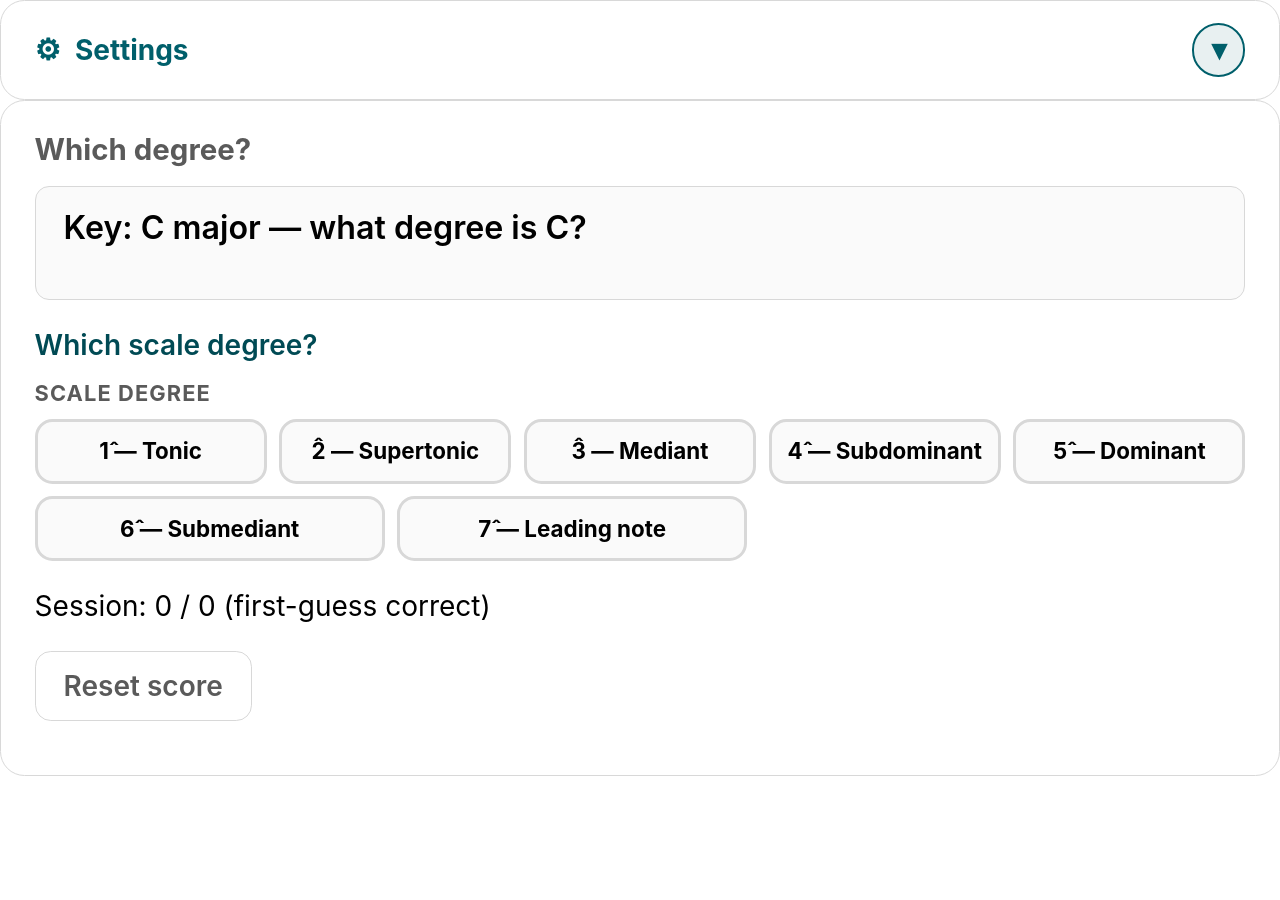
Test: ScaleDegreesTopic — first-guess scoring (docs/15-theory-topics/03 §5) › counts a first-try correct answer as total+1, correct+1
This screenshot has width=1280, height=900.
Click the button "1̂ — Tonic" at (151, 451), box [35,419,267,484]
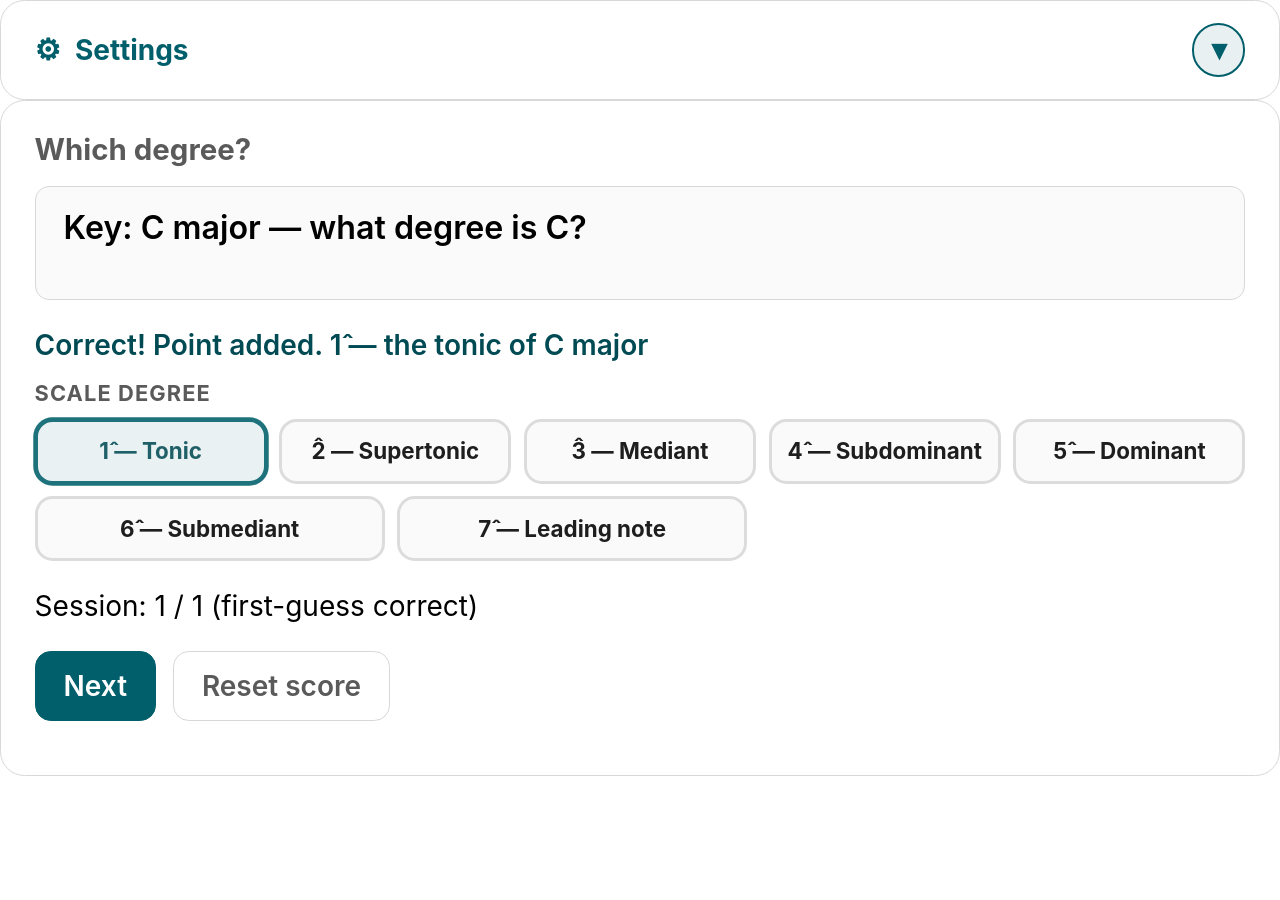
Now the text "Session: 1 / 1 (first-guess correct)" is shown, box [35,589,478,623]
